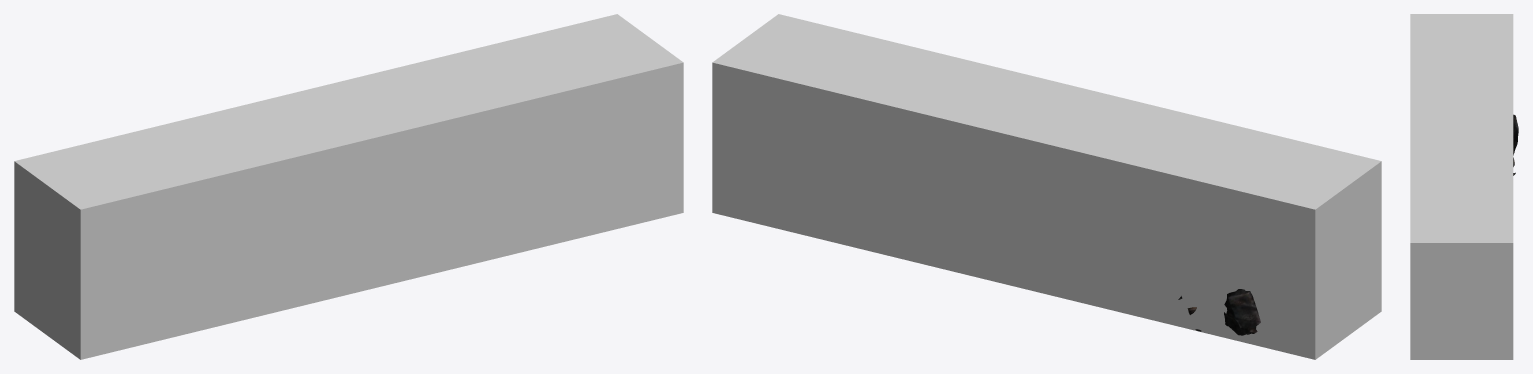
The model's file is sf06_goods.gltf.
The picture shows the model from 3 angles, left to right: view 1: azimuth 30°, elevation 25°; view 2: azimuth 150°, elevation 25°; view 3: azimuth 270°, elevation 25°; orthographic projection. The views are drawn at different scales.
Parts seen in each view (by area): view 1: sf06_goods_COL; view 2: sf06_goods_COL, sf06_goods_LOD0; view 3: sf06_goods_COL, sf06_goods_LOD0.
Boxes of the visible parts, x1,y1,x2,y2 form: sf06_goods_COL: (14,14,683,359); sf06_goods_COL: (712,14,1381,359); sf06_goods_LOD0: (1178,289,1260,335); sf06_goods_COL: (1410,14,1513,359); sf06_goods_LOD0: (1513,114,1518,175).
Size of what is drawn, in the model's own units: 4.2 by 1 by 0.8409.
1 material, 1 textured.
